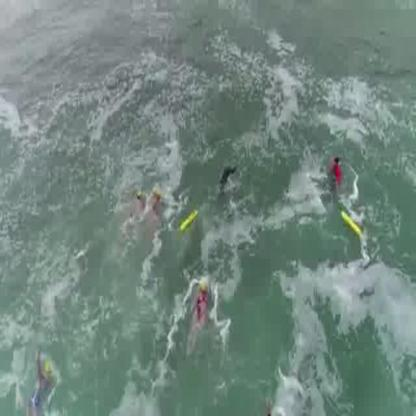Boat: (340, 205, 360, 234), (180, 208, 198, 230)
